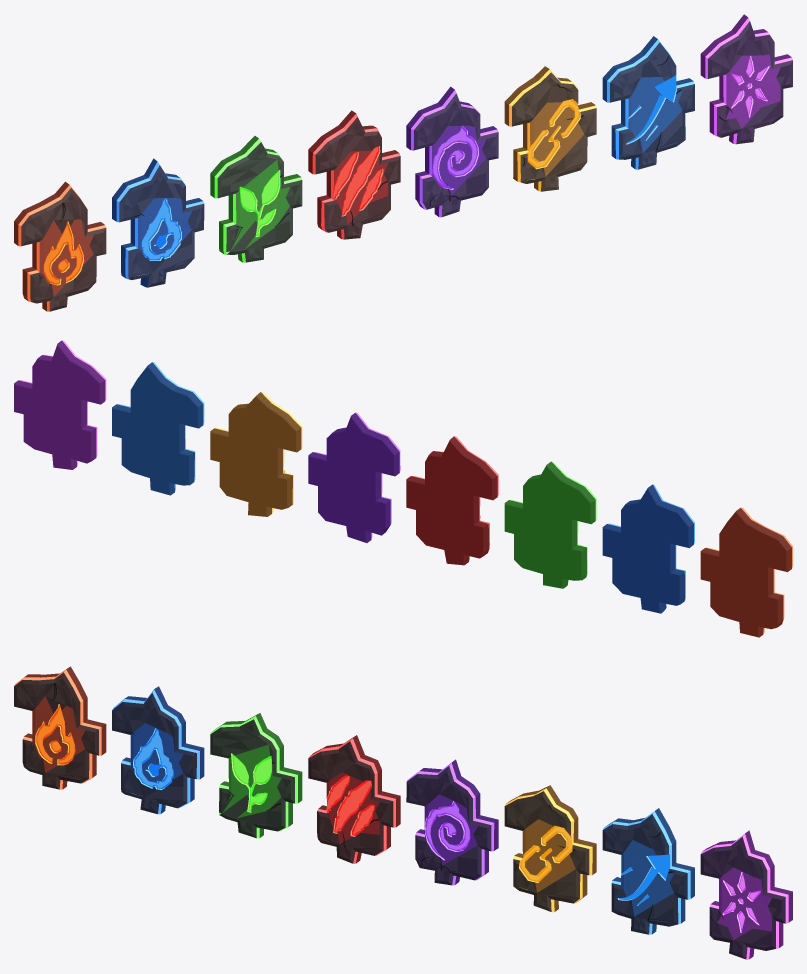
The model's file is runas_v3_acesas.glb.
The picture shows the model from 3 angles, top to bottom: view 1: azimuth 30°, elevation 25°; view 2: azimuth 150°, elevation 25°; view 3: azimuth 330°, elevation 25°; orthographic projection.
Visible parts, largest first — view 1: Runa_arremesso_acesa, Runa_quebrar_acesa, Runa_prende_acesa, Runa_gravitacao_acesa, Runa_fogo_acesa, Runa_vida_acesa, Runa_agua_acesa, Runa_feroz_acesa, Brasa_agua_0, Brasa_fogo_1, Brasa_feroz_2, Brasa_gravitacao_1; view 2: Runa_arremesso_acesa, Runa_fogo_acesa, Runa_quebrar_acesa, Runa_gravitacao_acesa, Runa_feroz_acesa, Runa_agua_acesa, Runa_prende_acesa, Runa_vida_acesa; view 3: Runa_arremesso_acesa, Runa_quebrar_acesa, Runa_prende_acesa, Runa_gravitacao_acesa, Runa_fogo_acesa, Runa_vida_acesa, Runa_agua_acesa, Runa_feroz_acesa, Brasa_agua_0, Brasa_fogo_1, Brasa_gravitacao_1, Brasa_feroz_2.
Part boxes in pixels (left/top/right/bottom): Runa_arremesso_acesa: left=602, top=36, right=694, bottom=169; Runa_quebrar_acesa: left=700, top=14, right=792, bottom=144; Runa_prende_acesa: left=504, top=66, right=596, bottom=191; Runa_gravitacao_acesa: left=406, top=86, right=498, bottom=217; Runa_fogo_acesa: left=14, top=181, right=106, bottom=311; Runa_vida_acesa: left=210, top=136, right=302, bottom=262; Runa_agua_acesa: left=112, top=158, right=204, bottom=287; Runa_feroz_acesa: left=308, top=110, right=400, bottom=239; Brasa_agua_0: left=142, top=200, right=179, bottom=259; Brasa_fogo_1: left=44, top=225, right=81, bottom=283; Brasa_feroz_2: left=342, top=147, right=378, bottom=214; Brasa_gravitacao_1: left=433, top=128, right=476, bottom=185; Runa_arremesso_acesa: left=112, top=362, right=204, bottom=495; Runa_fogo_acesa: left=700, top=507, right=792, bottom=637; Runa_quebrar_acesa: left=14, top=340, right=106, bottom=469; Runa_gravitacao_acesa: left=308, top=412, right=400, bottom=542; Runa_feroz_acesa: left=406, top=436, right=498, bottom=565; Runa_agua_acesa: left=602, top=484, right=694, bottom=613; Runa_prende_acesa: left=210, top=392, right=302, bottom=516; Runa_vida_acesa: left=504, top=461, right=596, bottom=588; Runa_arremesso_acesa: left=602, top=808, right=694, bottom=934; Runa_quebrar_acesa: left=700, top=830, right=792, bottom=959; Runa_prende_acesa: left=504, top=785, right=596, bottom=912; Runa_gravitacao_acesa: left=406, top=759, right=498, bottom=885; Runa_fogo_acesa: left=14, top=666, right=106, bottom=789; Runa_vida_acesa: left=210, top=713, right=302, bottom=838; Runa_agua_acesa: left=112, top=686, right=204, bottom=814; Runa_feroz_acesa: left=308, top=735, right=400, bottom=863; Brasa_agua_0: left=135, top=730, right=173, bottom=787; Brasa_fogo_1: left=37, top=707, right=74, bottom=763; Brasa_gravitacao_1: left=426, top=803, right=469, bottom=852; Brasa_feroz_2: left=335, top=781, right=371, bottom=831.
Size of the model in its own units: 3.15 by 0.4891 by 0.0524.
